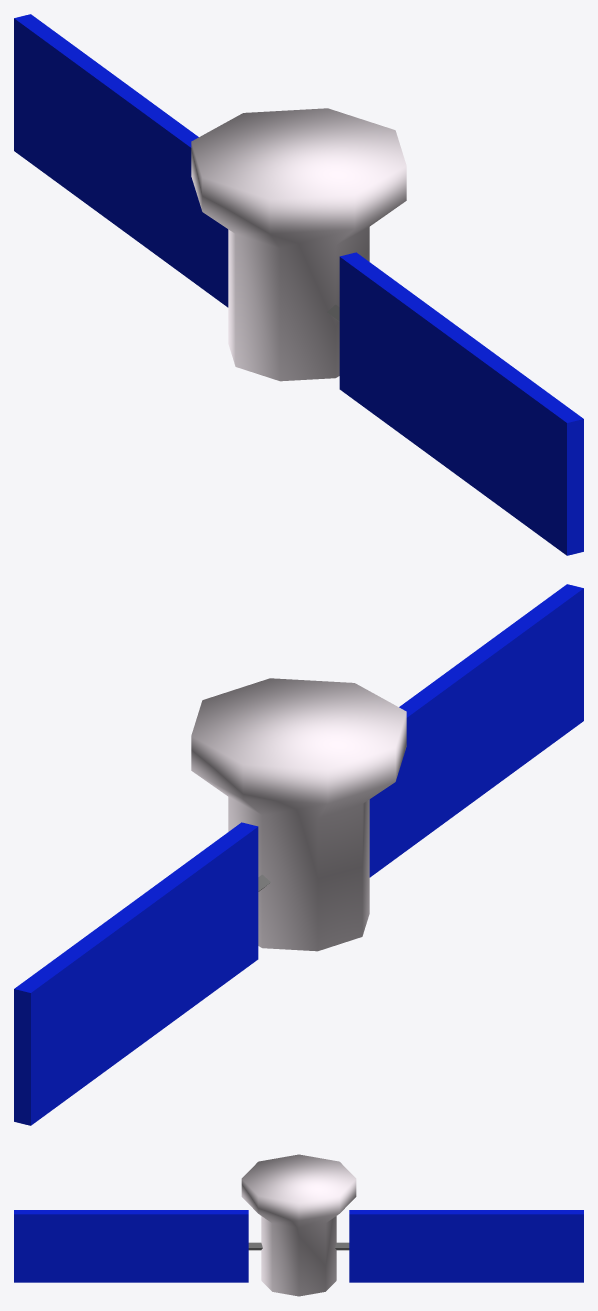
Rendered from satellite.fbx.
3 renders of one model, top to bottom at view 1: azimuth 30°, elevation 25°; view 2: azimuth 150°, elevation 25°; view 3: azimuth 270°, elevation 25°, orthographic. The views are drawn at different scales.
Parts seen in each view (by area): view 1: Cube; view 2: Cube; view 3: Cube.
Boxes of the visible parts, x1=… form: Cube: x1=14, y1=14, x2=583, y2=555; Cube: x1=14, y1=584, x2=583, y2=1125; Cube: x1=14, y1=1154, x2=583, y2=1296.
Size of the model in its own units: 304 by 298 by 1510.
